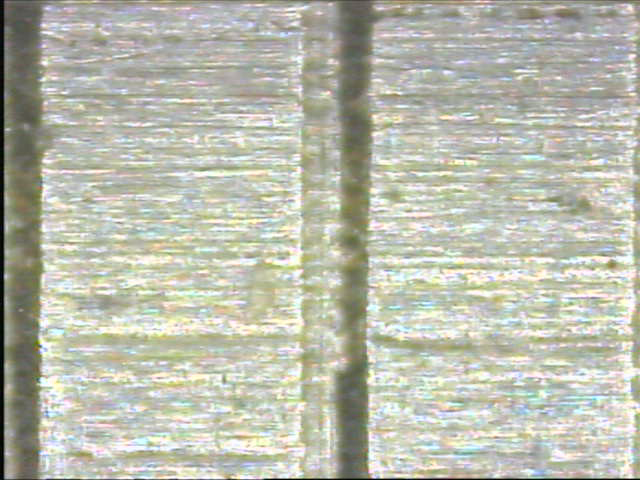line: (298, 1, 377, 477)
